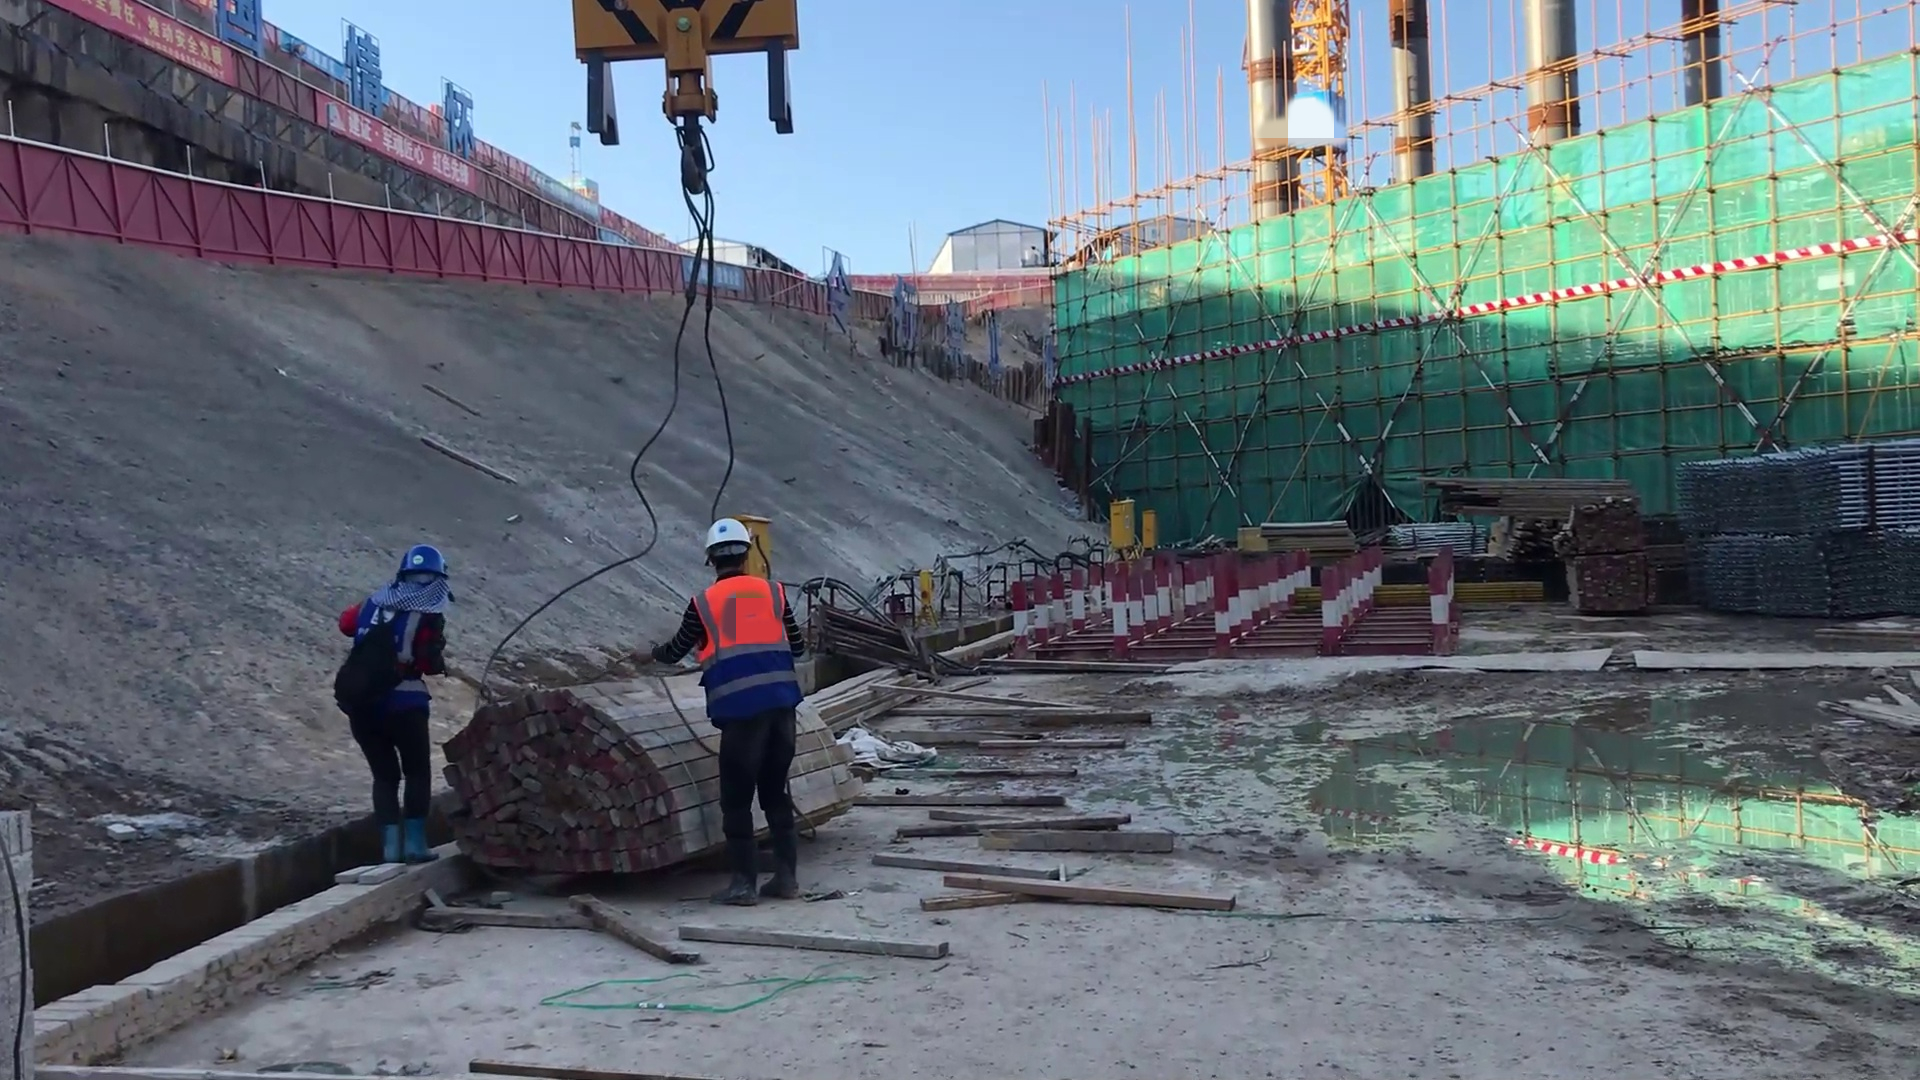ebox: (1108, 497, 1138, 552), (1135, 504, 1158, 551)
fence: (1, 153, 445, 272), (415, 234, 697, 290)
helmet: (388, 547, 463, 602), (694, 517, 759, 559)
hook: (559, 1, 811, 155)
person: (662, 511, 807, 903), (342, 532, 458, 863)
scaffold: (1681, 442, 1920, 642)
slogan: (81, 1, 234, 100)
vest: (685, 575, 792, 650)
wood: (851, 613, 1199, 952), (441, 674, 706, 905), (1385, 441, 1652, 522)
